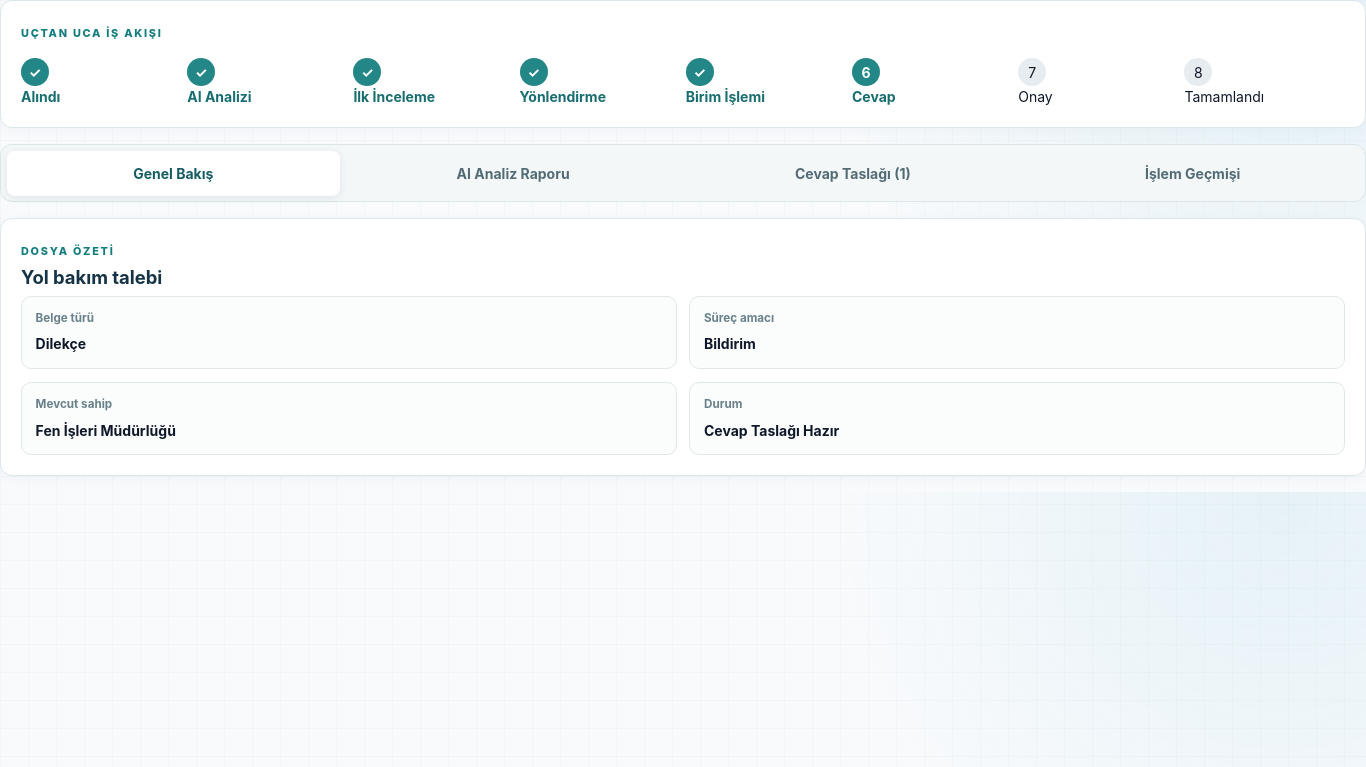
it: Case official writing and report experience › renders exact Turkish text and visible editable actions above A4
Click the button "Cevap Taslağı (1)": (853, 173) [686,151,1020,196]
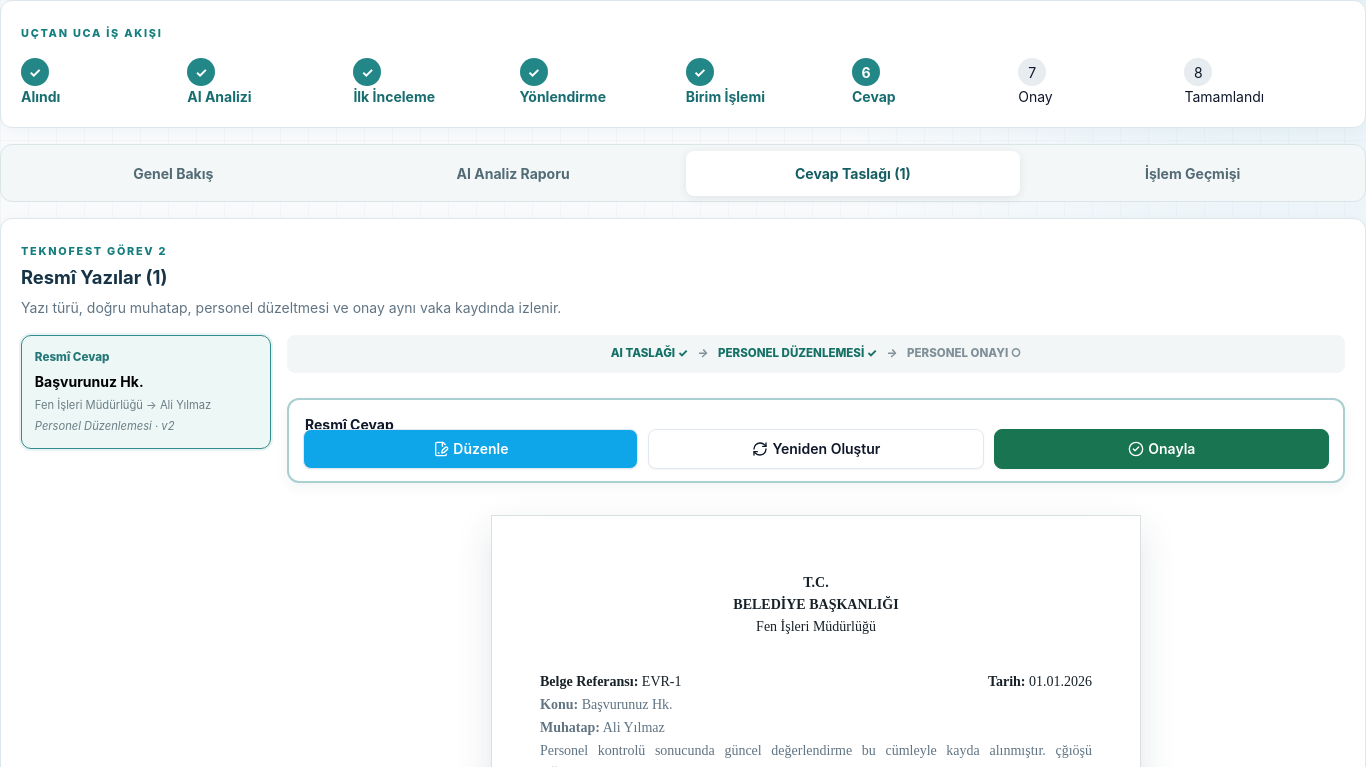
Expected: the button "Düzenle" is shown, [303,429,638,469]
Expected: the button "Yeniden Oluştur" is shown, [648,429,984,469]
Expected: the button "Onayla" is shown, [994,429,1329,469]
